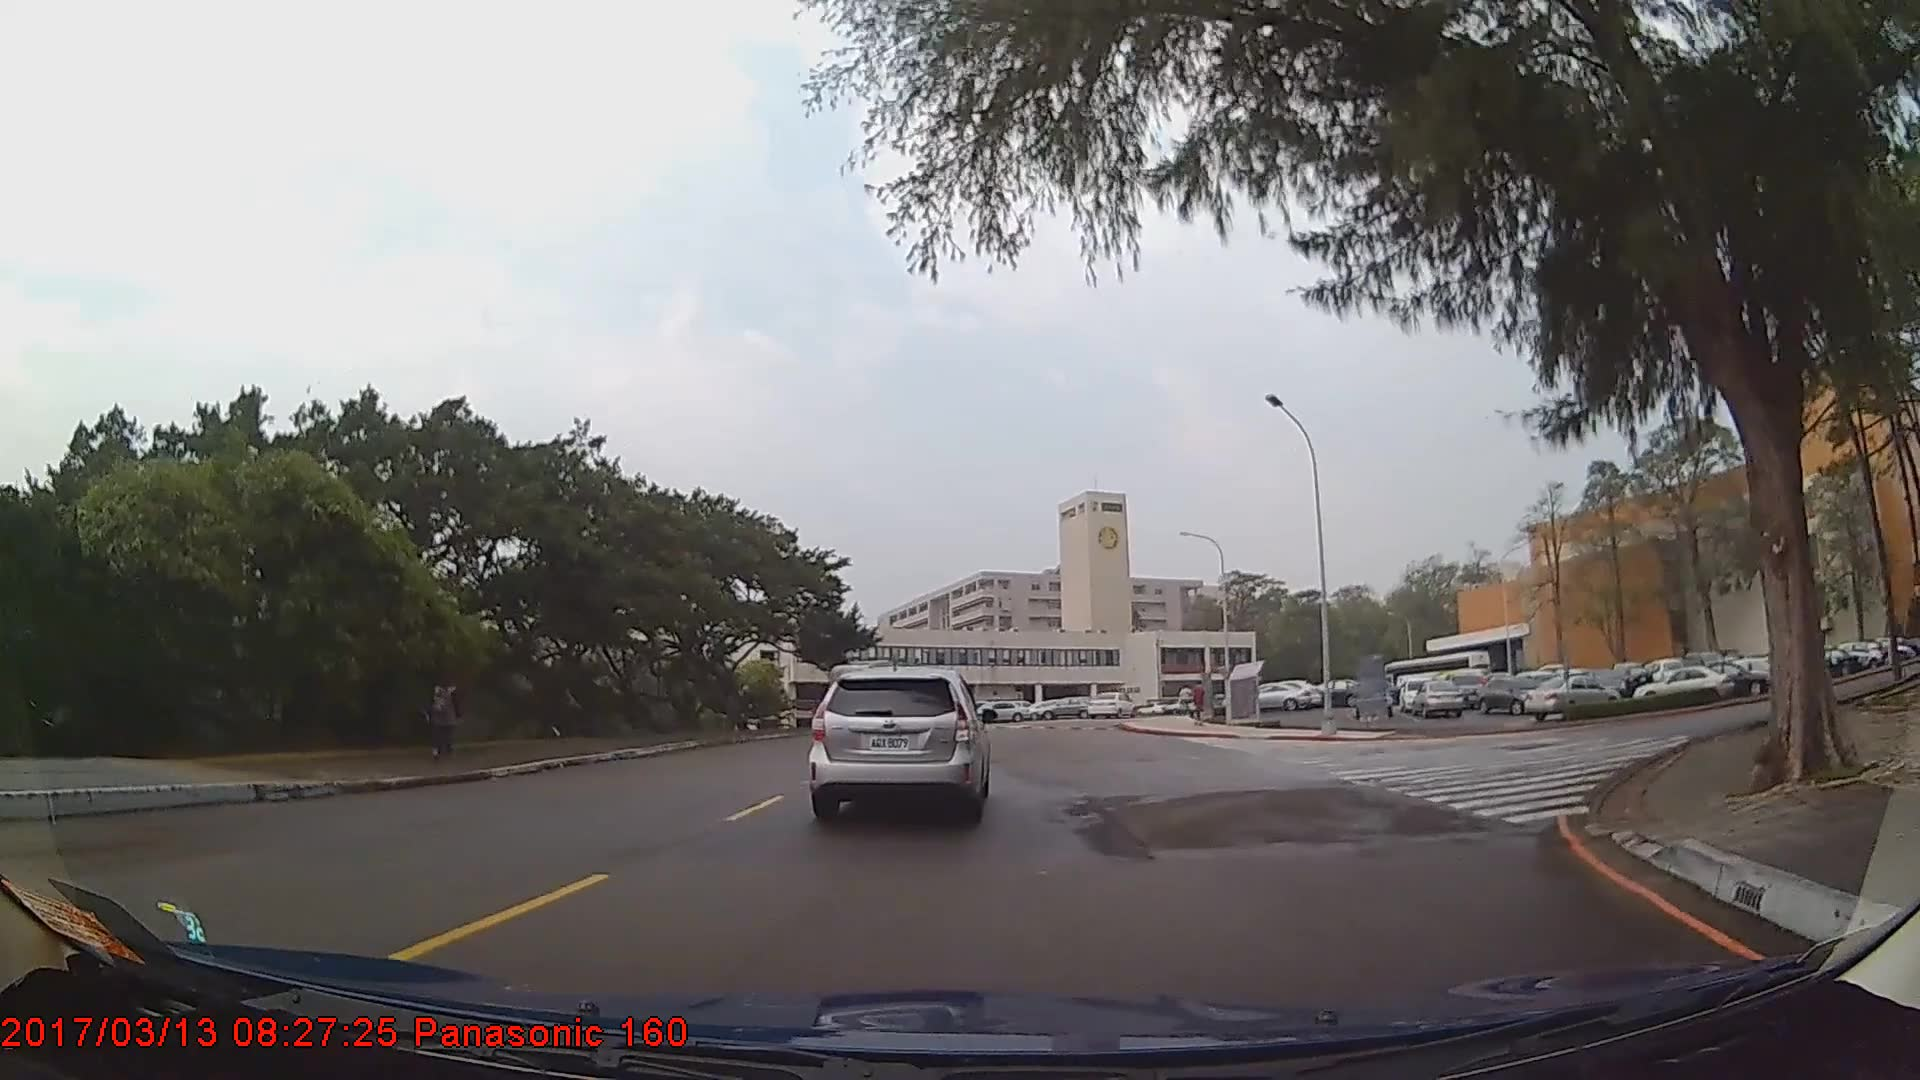pedestrian: (424, 662, 468, 756)
vehicle: (808, 665, 989, 821), (1520, 672, 1617, 722), (1631, 661, 1732, 706), (1477, 672, 1553, 712), (1243, 681, 1312, 711), (1413, 678, 1465, 717), (1085, 691, 1135, 720), (1030, 695, 1095, 718), (971, 697, 1028, 720)
